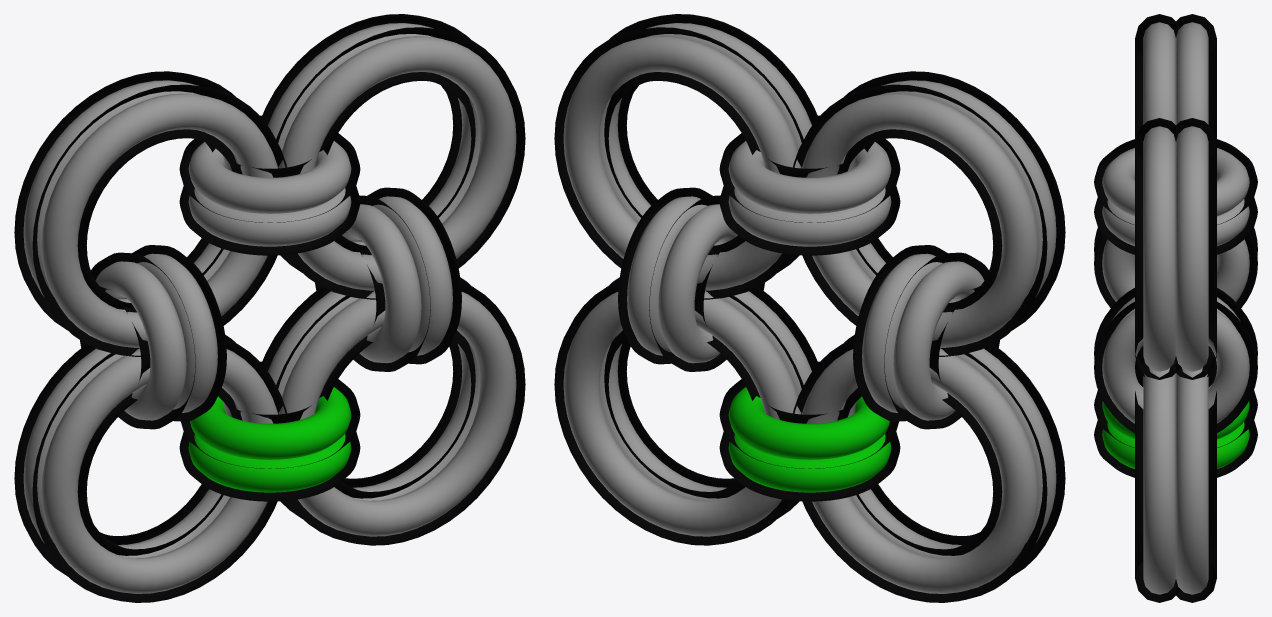
File: japanese_8_in_2_step_06.glb
3 views of the same model, side by side, from view 1: azimuth 30°, elevation 25°; view 2: azimuth 150°, elevation 25°; view 3: azimuth 270°, elevation 25° (orthographic). The views are drawn at different scales.
Parts seen in each view (by area): view 1: Torus AR 6.024, Torus AR 6.032, Torus AR 6.003, Torus AR 6.001, Torus AR 6.019, Torus AR 6.004, Torus AR 6.027, Torus AR 6.002, Torus AR 3.003, Torus AR 3.042, Torus AR 3.002, Torus AR 3.005 (+4 smaller); view 2: Torus AR 6.019, Torus AR 6.027, Torus AR 6.004, Torus AR 6.002, Torus AR 6.024, Torus AR 6.003, Torus AR 6.032, Torus AR 6.001, Torus AR 3.003, Torus AR 3.042, Torus AR 3.002, Torus AR 3.005 (+4 smaller); view 3: Torus AR 6.027, Torus AR 6.032, Torus AR 6.001, Torus AR 6.002, Torus AR 3.001, Torus AR 3.042, Torus AR 6.019, Torus AR 6.024, Torus AR 3.004, Torus AR 3.041, Torus AR 3.006, Torus AR 3.005 (+1 smaller).
Boxes of the visible parts, left/top/right/bottom form: Torus AR 6.024: left=32, top=84, right=286, bottom=356; Torus AR 6.032: left=276, top=27, right=525, bottom=299; Torus AR 6.003: left=32, top=339, right=286, bottom=602; Torus AR 6.001: left=276, top=281, right=525, bottom=545; Torus AR 6.019: left=14, top=71, right=238, bottom=330; Torus AR 6.004: left=14, top=334, right=238, bottom=576; Torus AR 6.027: left=261, top=14, right=480, bottom=272; Torus AR 6.002: left=261, top=277, right=480, bottom=518; Torus AR 3.003: left=80, top=252, right=195, bottom=429; Torus AR 3.042: left=179, top=115, right=360, bottom=222; Torus AR 3.002: left=315, top=195, right=430, bottom=371; Torus AR 3.005: left=181, top=361, right=360, bottom=468; Torus AR 6.019: left=793, top=84, right=1047, bottom=356; Torus AR 6.027: left=554, top=27, right=803, bottom=299; Torus AR 6.004: left=793, top=339, right=1047, bottom=602; Torus AR 6.002: left=554, top=281, right=803, bottom=545; Torus AR 6.024: left=841, top=71, right=1065, bottom=330; Torus AR 6.003: left=841, top=334, right=1065, bottom=576; Torus AR 6.032: left=599, top=14, right=818, bottom=272; Torus AR 6.001: left=599, top=277, right=818, bottom=518; Torus AR 3.003: left=884, top=252, right=999, bottom=429; Torus AR 3.042: left=719, top=115, right=900, bottom=222; Torus AR 3.002: left=649, top=195, right=764, bottom=371; Torus AR 3.005: left=719, top=361, right=898, bottom=468; Torus AR 6.027: left=1171, top=118, right=1216, bottom=379; Torus AR 6.032: left=1135, top=118, right=1180, bottom=379; Torus AR 6.001: left=1135, top=367, right=1180, bottom=602; Torus AR 6.002: left=1171, top=367, right=1216, bottom=602; Torus AR 3.001: left=1094, top=301, right=1257, bottom=432; Torus AR 3.042: left=1094, top=139, right=1257, bottom=224; Torus AR 6.019: left=1171, top=14, right=1216, bottom=141; Torus AR 6.024: left=1135, top=14, right=1180, bottom=141; Torus AR 3.004: left=1094, top=233, right=1257, bottom=307; Torus AR 3.041: left=1094, top=197, right=1257, bottom=254; Torus AR 3.006: left=1094, top=420, right=1257, bottom=477; Torus AR 3.005: left=1094, top=390, right=1257, bottom=447.
Size of the model in its own units: 6.2 by 6.2 by 2.
